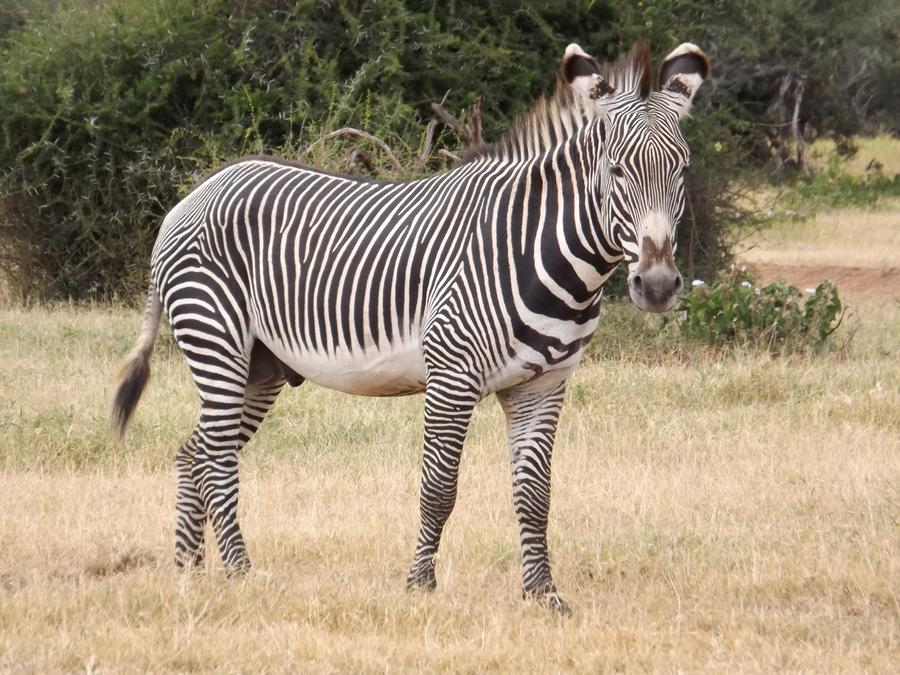zebra_grevys: (145, 157, 531, 391)
